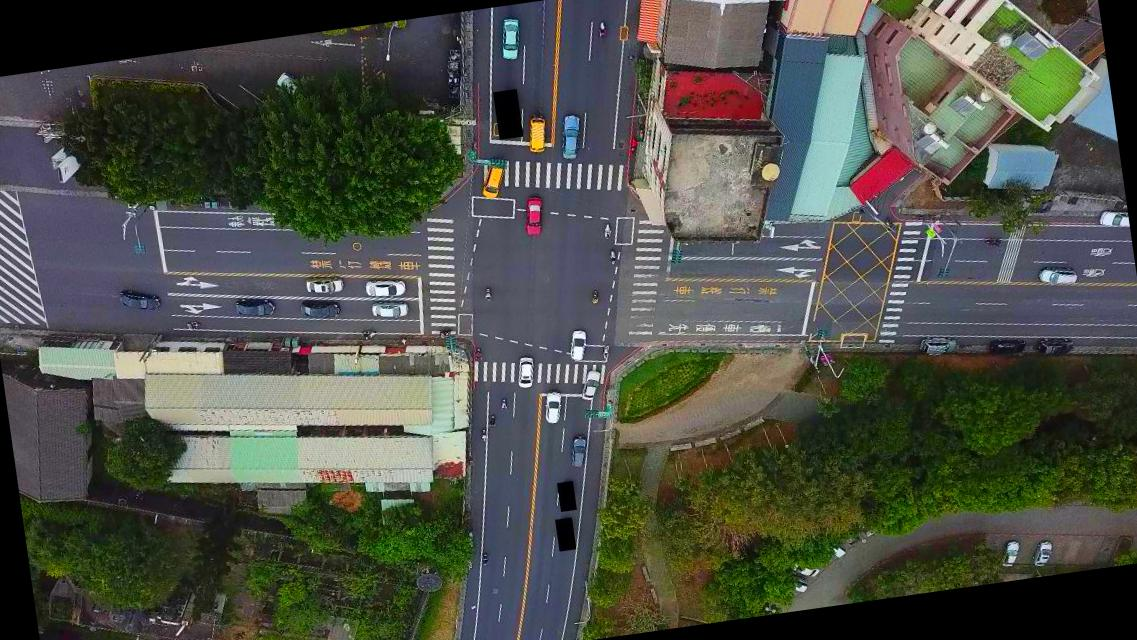vehicle: (116, 284, 162, 318), (554, 112, 584, 160), (298, 294, 343, 324), (495, 15, 524, 61), (364, 274, 407, 302), (918, 331, 960, 359), (478, 163, 509, 200), (370, 297, 412, 323), (520, 196, 546, 237), (305, 273, 347, 298), (235, 295, 276, 320), (987, 333, 1028, 358), (576, 368, 606, 402), (1036, 334, 1078, 358), (526, 114, 551, 154), (1038, 264, 1078, 289), (275, 69, 304, 100), (1097, 206, 1129, 234), (1031, 538, 1058, 570), (567, 434, 590, 470), (515, 356, 538, 390), (541, 392, 564, 425), (566, 329, 588, 363), (998, 539, 1024, 567), (790, 558, 821, 580)
